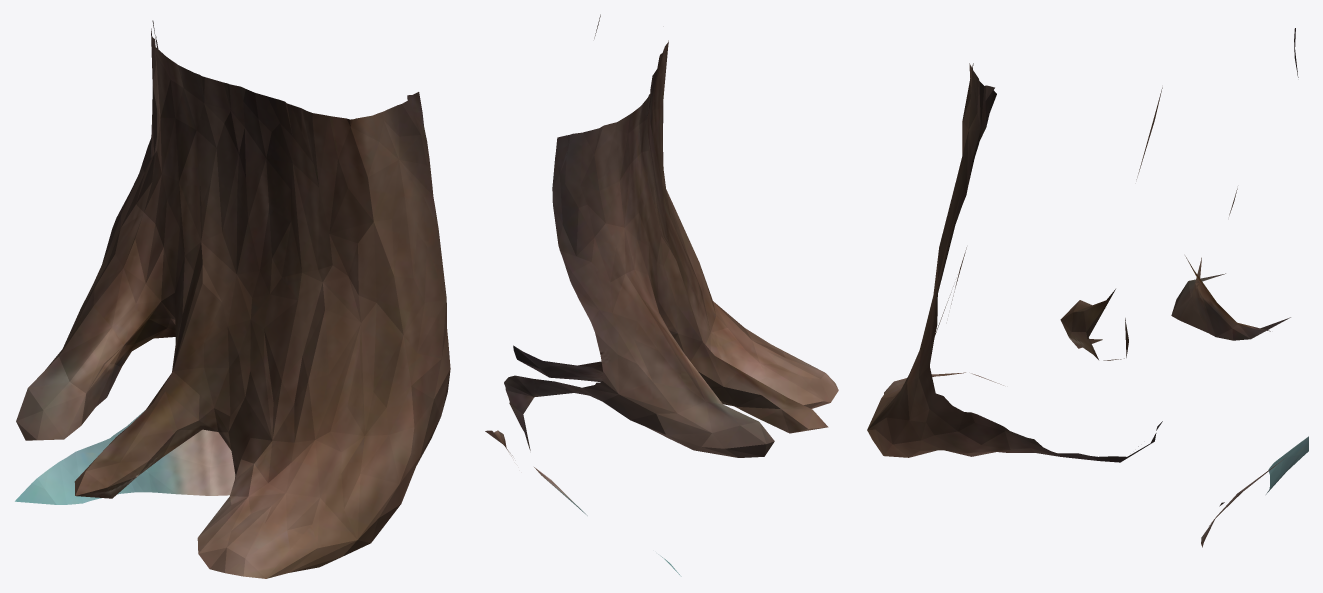
3 views of the same model, side by side, from view 1: azimuth 30°, elevation 25°; view 2: azimuth 150°, elevation 25°; view 3: azimuth 270°, elevation 25° (orthographic). The views are drawn at different scales.
Bounding box in the file's own units: 61.05 × 85.74 × 70.82.
1 material, 1 textured.
